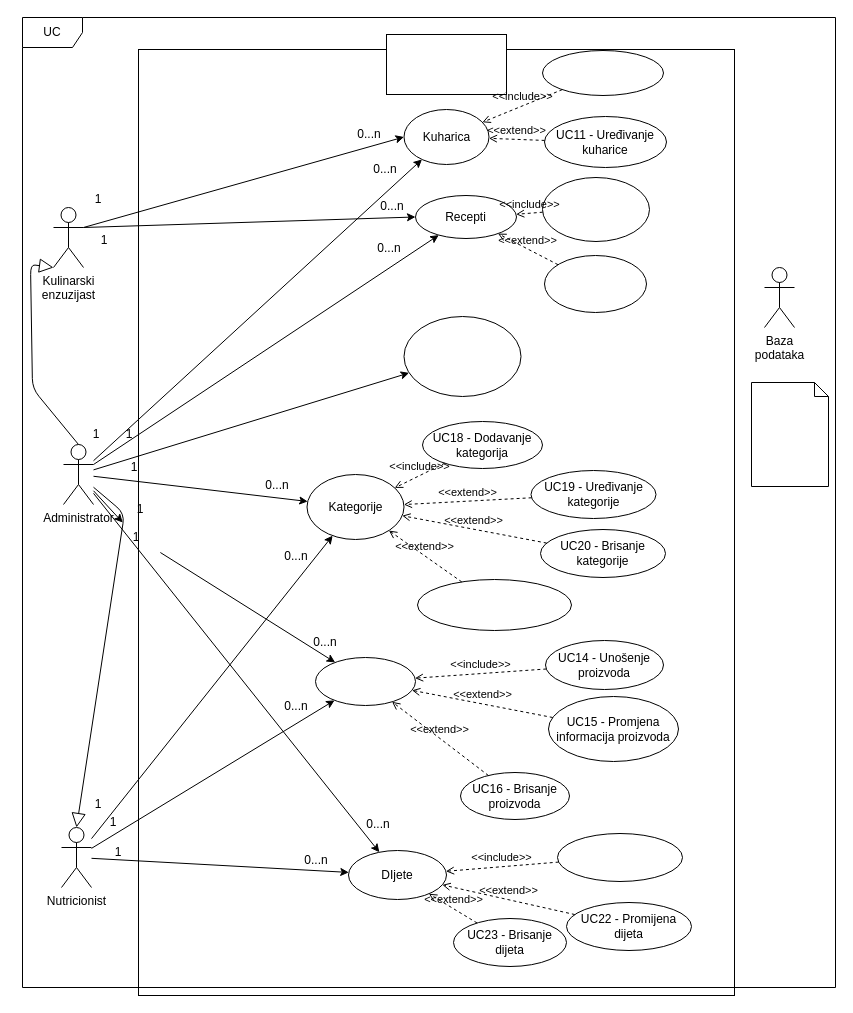
The diagram is 853 pixels wide and 1013 high, and some of its shapes have lost their labels. The centre of each missing label's shape, as x and y in pixels:
Funkcionalnosti neregistriranog korisnika i klijenta: (x=446, y=64)
Proizvodi: (x=365, y=681)
Svi obrazci uporabe komuniciraju s bazom podataka: (x=789, y=434)
UC10 - Kreiranje kuharice: (x=603, y=73)
UC12 - kreiranje recepata: (x=596, y=209)
UC13 - Uređivanje recepata: (x=595, y=283)
UC17 - Kazegoriziranje proizvoda: (x=494, y=604)
UC21 - Dodavanje dijeta: (x=619, y=857)
UC24 - prihvaćanje ili odbijanje prijava: (x=462, y=356)
